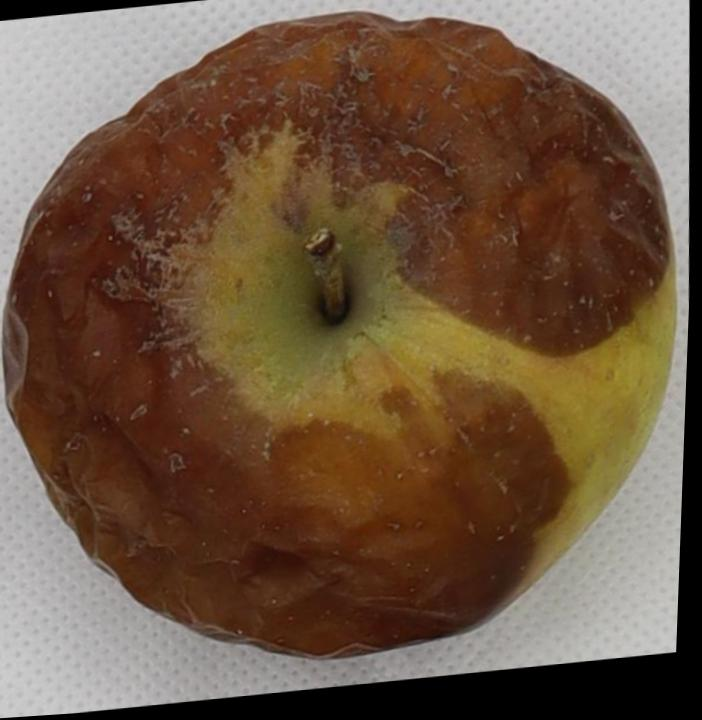apple: (5, 14, 675, 659)
rot_mold_decay: (4, 14, 667, 656)
